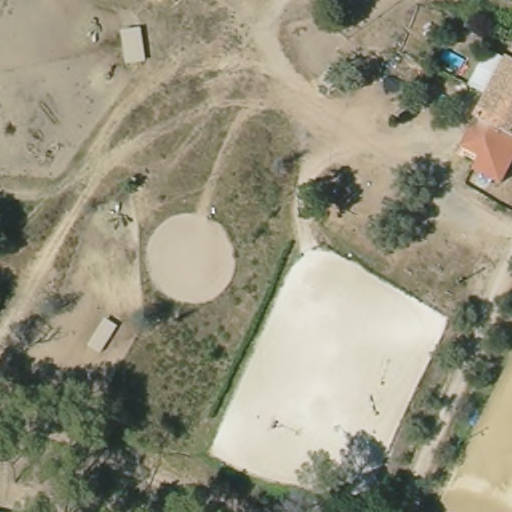pool: (436, 44, 469, 74)
